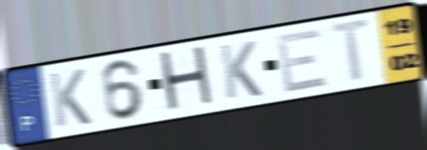6: (99, 57, 148, 124)
E: (274, 25, 330, 95)
H: (156, 43, 218, 117)
K: (217, 39, 265, 102), (46, 67, 94, 130)
T: (327, 15, 377, 86)
